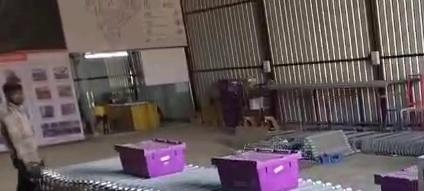box: (212, 151, 300, 190), (115, 139, 185, 177), (379, 170, 417, 190)
